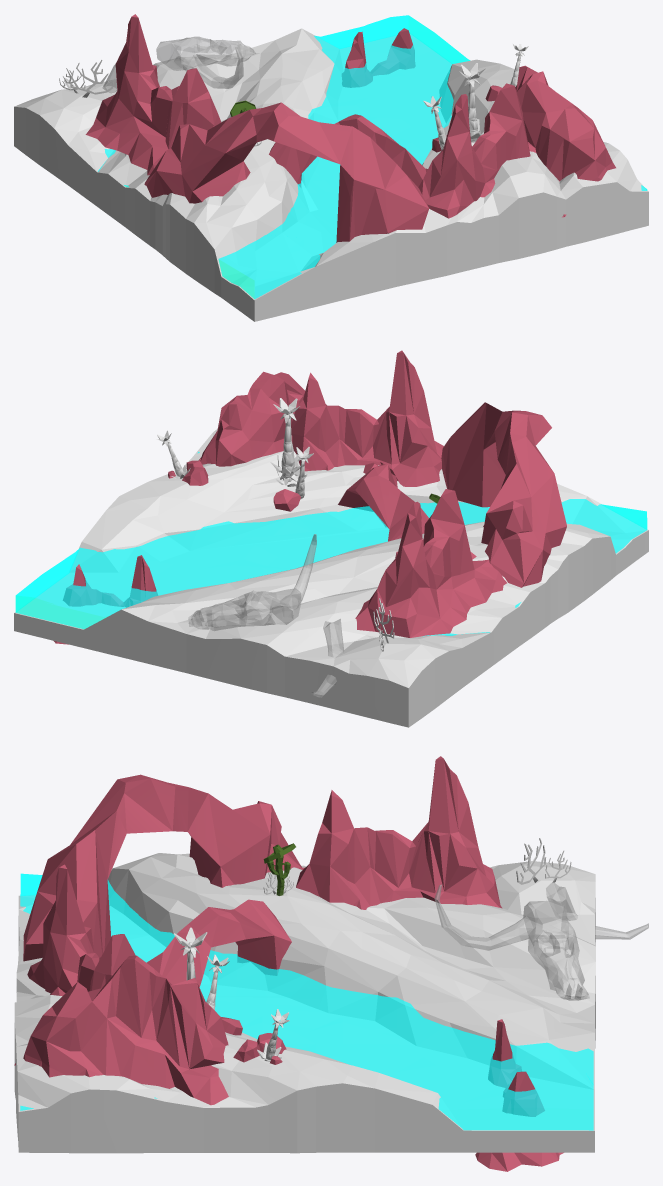
The model's file is caveScene02.fbx.
3 views of the same model, one above another, from view 1: azimuth 30°, elevation 25°; view 2: azimuth 150°, elevation 25°; view 3: azimuth 270°, elevation 25° (orthographic). The views are drawn at different scales.
Visible parts, largest first — view 1: Plane, canyon_deco_stone_small01, Plane.001, canyon_skull_lhorn, canyon_foliage01_leaves; view 2: Plane, canyon_deco_stone_small01, Plane.001, canyon_skull_lhorn, canyon_foliage01_leaves; view 3: Plane, canyon_deco_stone_small01, Plane.001, canyon_skull_lhorn, canyon_foliage01_leaves, Cone.010.
Boxes of the visible parts, x1,y1,x2,y2 form: Plane: [14, 28, 648, 321]; canyon_deco_stone_small01: [85, 14, 615, 242]; Plane.001: [98, 15, 647, 298]; canyon_skull_lhorn: [64, 36, 255, 92]; canyon_foliage01_leaves: [59, 44, 528, 150]; Plane: [14, 429, 648, 727]; canyon_deco_stone_small01: [53, 350, 566, 644]; Plane.001: [15, 451, 647, 636]; canyon_skull_lhorn: [188, 534, 344, 697]; canyon_foliage01_leaves: [157, 398, 394, 651]; Plane: [14, 853, 595, 1153]; canyon_deco_stone_small01: [14, 756, 563, 1171]; Plane.001: [20, 873, 593, 1130]; canyon_skull_lhorn: [434, 882, 648, 1000]; canyon_foliage01_leaves: [174, 838, 571, 1061]; Cone.010: [263, 843, 295, 895].
Bounding box in the file's own units: 4489 × 1962 × 5121.
